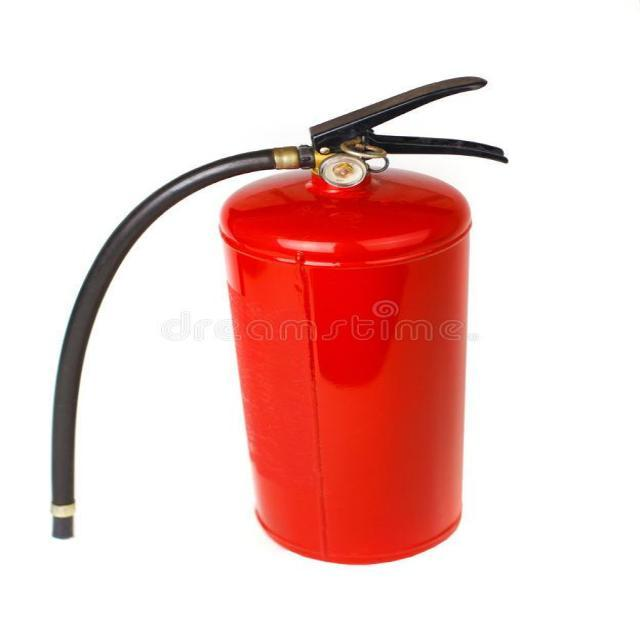fire_extinguisher: (40, 70, 518, 569)
